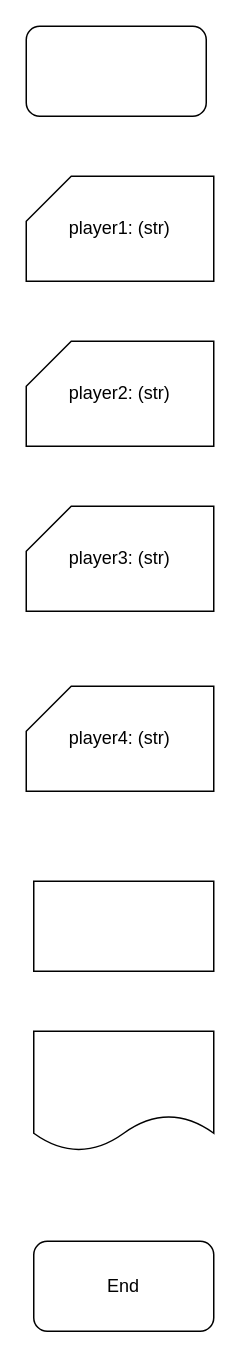
The diagram is 240 pixels wide and 1358 high, and some of its shapes have lost their labels. The centre of each missing label's shape, as x and y in pixels:
"Winner": pixel 123 1090
random.choice: pixel 123 925
